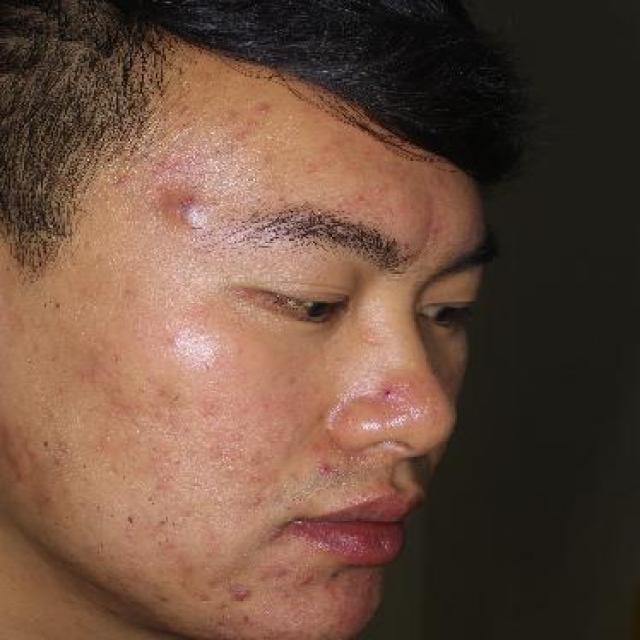dark spot: (2, 412, 41, 494), (216, 104, 253, 150), (226, 580, 255, 606), (288, 568, 318, 592), (312, 459, 341, 483), (375, 377, 402, 401), (256, 91, 276, 118)
nodules: (152, 170, 212, 244)
whiteheads: (168, 329, 183, 348)
